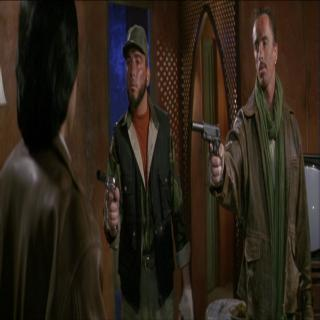gun: (187, 115, 226, 198), (94, 164, 124, 246)
